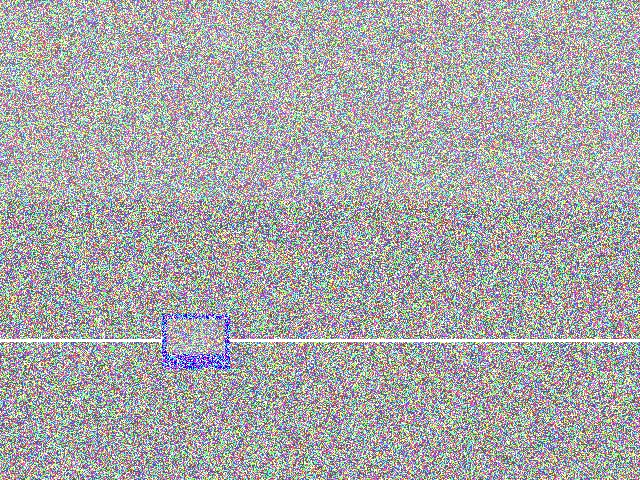car: (514, 178, 589, 230)
